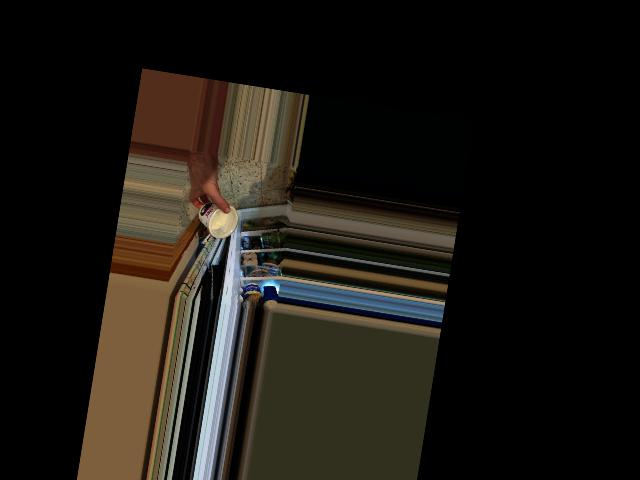cotage: (193, 196, 240, 241)
